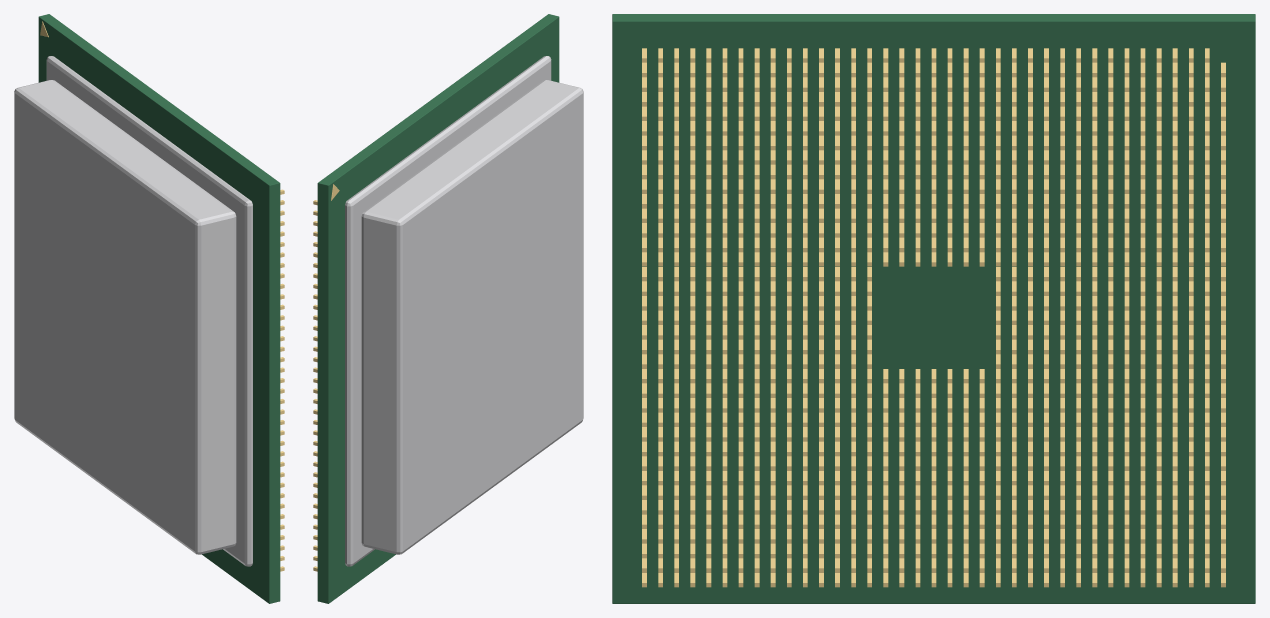
Rendered from CPU_AM4.glb.
3 views of the same model, side by side, from view 1: azimuth 30°, elevation 25°; view 2: azimuth 150°, elevation 25°; view 3: azimuth 270°, elevation 25° (orthographic). The views are drawn at different scales.
Parts seen in each view (by area): view 1: CPU_AM4_IHS, CPU_AM4_Substrate, CPU_AM4_Pins; view 2: CPU_AM4_IHS, CPU_AM4_Substrate, CPU_AM4_Pins; view 3: CPU_AM4_Substrate, CPU_AM4_Pins.
Boxes of the visible parts, x1,y1,x2,y2 form: CPU_AM4_IHS: [14, 56, 252, 566]; CPU_AM4_Substrate: [38, 14, 280, 603]; CPU_AM4_Pins: [280, 189, 284, 571]; CPU_AM4_IHS: [345, 56, 583, 566]; CPU_AM4_Substrate: [317, 14, 559, 603]; CPU_AM4_Pins: [313, 200, 317, 571]; CPU_AM4_Substrate: [612, 14, 1255, 603]; CPU_AM4_Pins: [642, 48, 1225, 587].
Size of the model in its own units: 0.0075 by 0.04 by 0.04.
